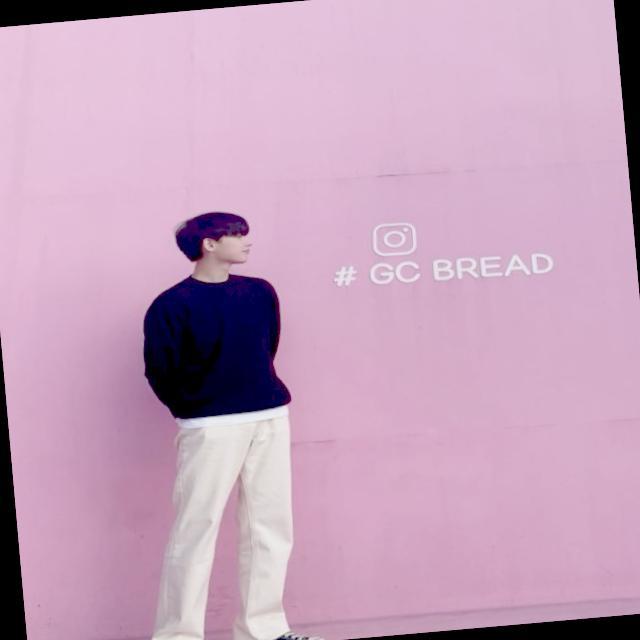cottonpants: (137, 399, 313, 640)
mtm: (137, 268, 297, 422)
